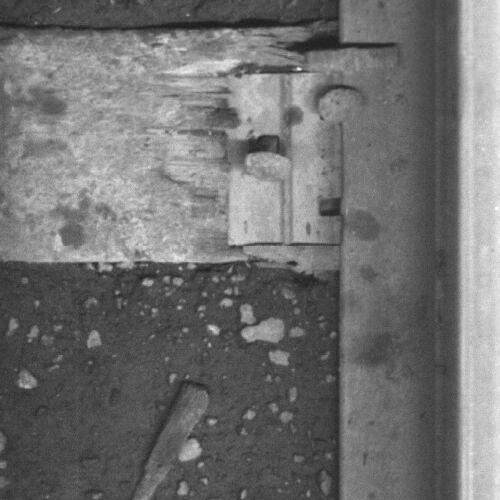crutch: (305, 43, 400, 73)
do: (226, 73, 367, 246)
hole_do: (312, 188, 355, 228)
nail_pulled: (242, 127, 299, 184)
rail: (458, 1, 500, 500)
tie_wood: (1, 27, 340, 262)
